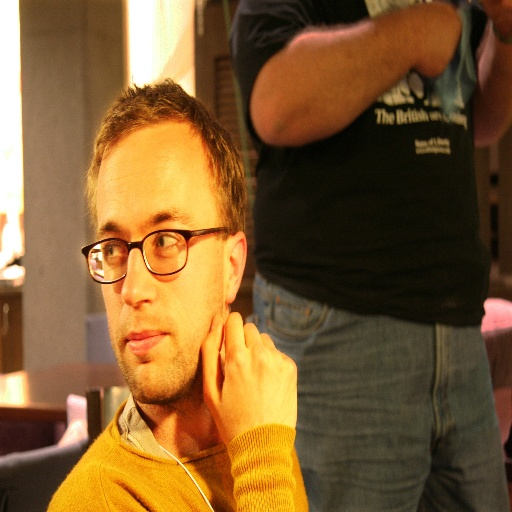hand: (206, 316, 300, 463), (408, 0, 464, 80), (483, 0, 511, 28)
